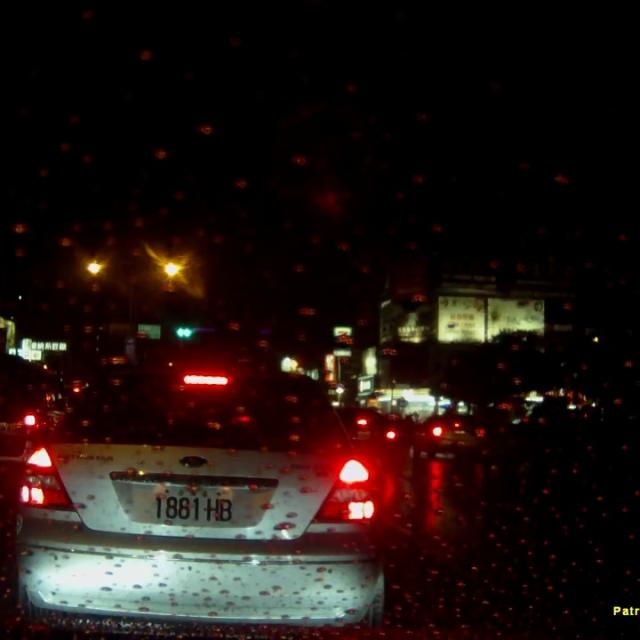Car: (16, 365, 387, 622), (410, 409, 483, 458)
